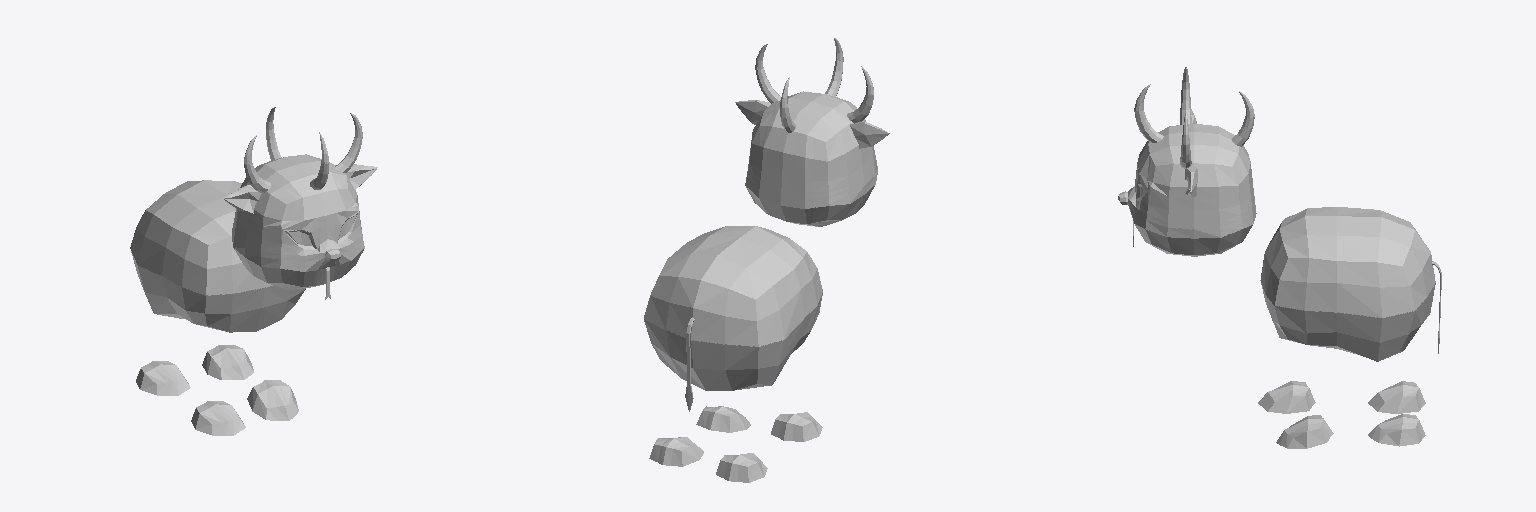
3 renders of one model, left to right at view 1: azimuth 30°, elevation 25°; view 2: azimuth 150°, elevation 25°; view 3: azimuth 270°, elevation 25°, orthographic.
Visible parts, largest first — view 1: cara1_Cube.024, cuerpo1_Cube.030, cuerpoMalla_Cube.023, orejas1_Cube.022, cabezaMalla_Cube.010, patasMalla.005_Cube.029, patasMalla_Cube.014, patasMalla.001_Cube.016, patasMalla.003_Cube.026; view 2: cuerpo1_Cube.030, cara1_Cube.024, cuerpoMalla_Cube.023, orejas1_Cube.022, cabezaMalla_Cube.010, patasMalla_Cube.014, patasMalla.001_Cube.016, patasMalla.003_Cube.026, patasMalla.005_Cube.029; view 3: cuerpo1_Cube.030, cara1_Cube.024, cuerpoMalla_Cube.023, orejas1_Cube.022, cabezaMalla_Cube.010, patasMalla.001_Cube.016, patasMalla.003_Cube.026, patasMalla_Cube.014, patasMalla.005_Cube.029.
Boxes of the visible parts, box(x1,y1,x2,y2) form: cara1_Cube.024: box(232, 154, 364, 299); cuerpo1_Cube.030: box(130, 180, 271, 295); cuerpoMalla_Cube.023: box(131, 251, 305, 332); orejas1_Cube.022: box(223, 107, 377, 213); cabezaMalla_Cube.010: box(232, 211, 364, 289); patasMalla.005_Cube.029: box(247, 380, 298, 420); patasMalla_Cube.014: box(202, 345, 253, 379); patasMalla.001_Cube.016: box(136, 361, 190, 395); patasMalla.003_Cube.026: box(191, 401, 245, 435); cuerpo1_Cube.030: box(644, 226, 822, 346); cara1_Cube.024: box(745, 91, 877, 208); cuerpoMalla_Cube.023: box(644, 293, 822, 390); orejas1_Cube.022: box(735, 38, 889, 148); cabezaMalla_Cube.010: box(745, 176, 875, 226); patasMalla_Cube.014: box(649, 437, 703, 466); patasMalla.001_Cube.016: box(716, 453, 767, 482); patasMalla.003_Cube.026: box(771, 412, 822, 441); patasMalla.005_Cube.029: box(696, 406, 750, 432); cuerpo1_Cube.030: box(1261, 207, 1435, 317); cara1_Cube.024: box(1118, 124, 1255, 246); cuerpoMalla_Cube.023: box(1260, 280, 1435, 361); orejas1_Cube.022: box(1134, 67, 1254, 196); cabezaMalla_Cube.010: box(1128, 173, 1256, 256); patasMalla.001_Cube.016: box(1368, 381, 1425, 413); patasMalla.003_Cube.026: box(1258, 381, 1315, 413); patasMalla_Cube.014: box(1368, 414, 1425, 446); patasMalla.005_Cube.029: box(1276, 415, 1333, 448).
Bounding box in the file's own units: 2.4 × 5.09 × 4.36.